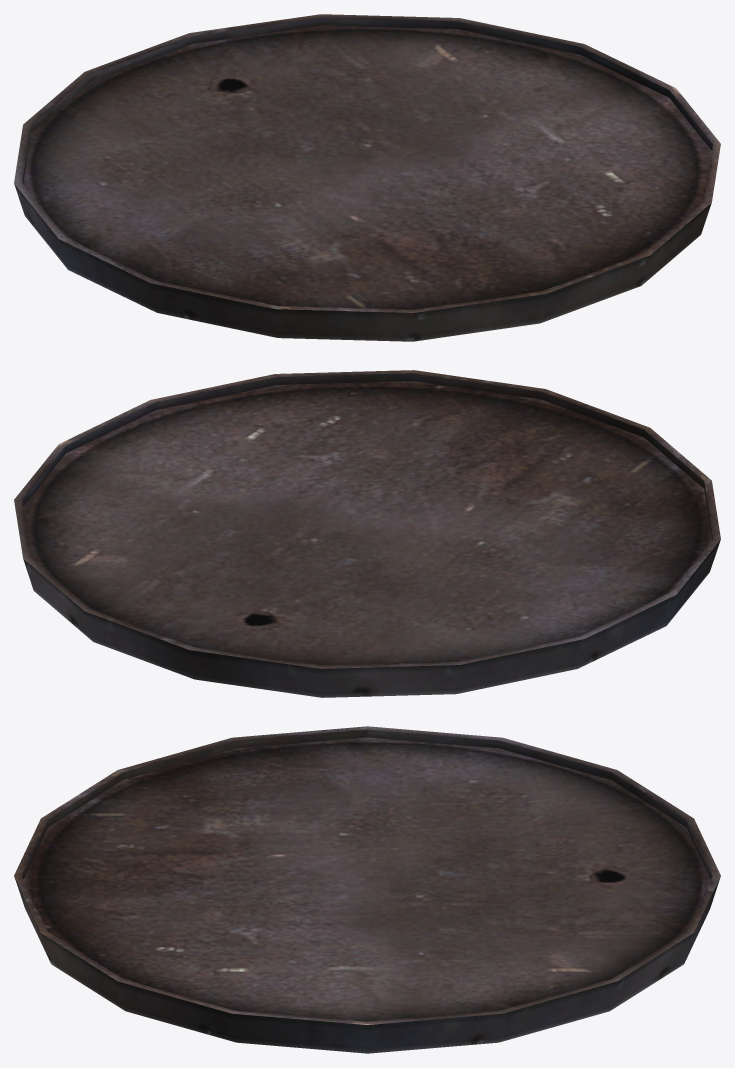
Rendered from flower_barrel_p11.glb.
3 renders of one model, top to bottom at view 1: azimuth 30°, elevation 25°; view 2: azimuth 150°, elevation 25°; view 3: azimuth 270°, elevation 25°, orthographic.
Parts seen in each view (by area): view 1: flower_barrel_p11; view 2: flower_barrel_p11; view 3: flower_barrel_p11.
Part boxes in pixels (x1=…): flower_barrel_p11: x1=14, y1=14, x2=720, y2=341; flower_barrel_p11: x1=14, y1=370, x2=720, y2=697; flower_barrel_p11: x1=14, y1=726, x2=720, y2=1053.
Size of the model in its own units: 0.5968 by 0.031 by 0.5968.
1 material, 1 textured.
